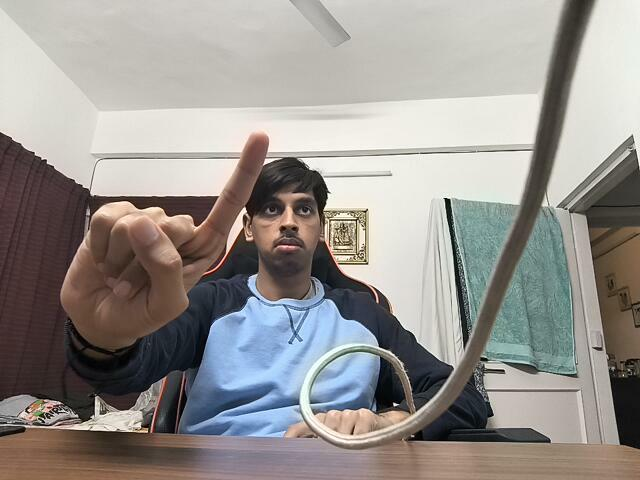UP: (56, 125, 273, 348)
